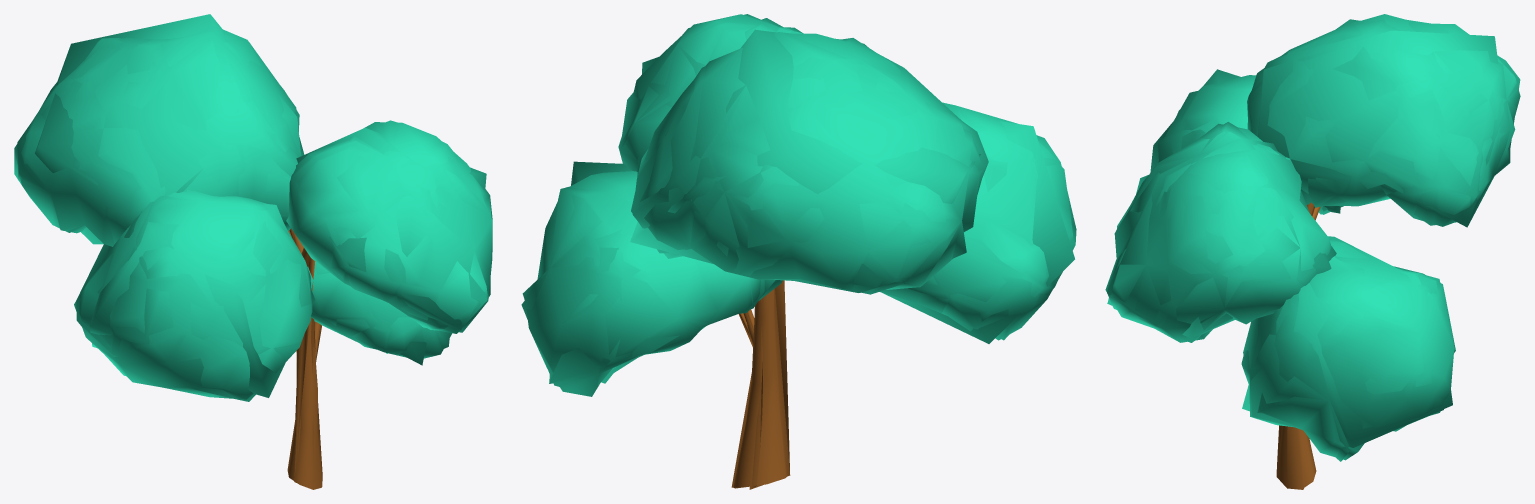
The model's file is Tree2.fbx.
3 views of the same model, side by side, from view 1: azimuth 30°, elevation 25°; view 2: azimuth 150°, elevation 25°; view 3: azimuth 270°, elevation 25° (orthographic). The views are drawn at different scales.
Visible parts, largest first — view 1: Cylinder, Cylinder.002, Cylinder.003; view 2: Cylinder, Cylinder.002, Cylinder.003; view 3: Cylinder, Cylinder.002, Cylinder.003.
Boxes of the visible parts, bbox=[...] form: Cylinder: bbox=[14, 29, 492, 489]; Cylinder.002: bbox=[17, 31, 491, 486]; Cylinder.003: bbox=[35, 14, 486, 479]; Cylinder: bbox=[522, 14, 1072, 488]; Cylinder.002: bbox=[521, 14, 1076, 487]; Cylinder.003: bbox=[549, 18, 1074, 489]; Cylinder: bbox=[1105, 14, 1520, 487]; Cylinder.002: bbox=[1107, 19, 1520, 489]; Cylinder.003: bbox=[1107, 30, 1503, 447].
Bounding box in the file's own units: 30.99 × 33.22 × 28.96.
